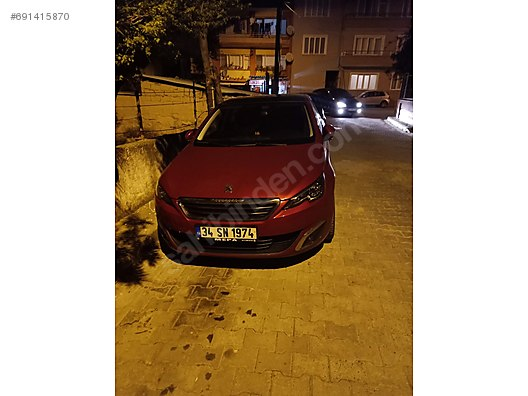peugeot: (152, 88, 344, 264)
